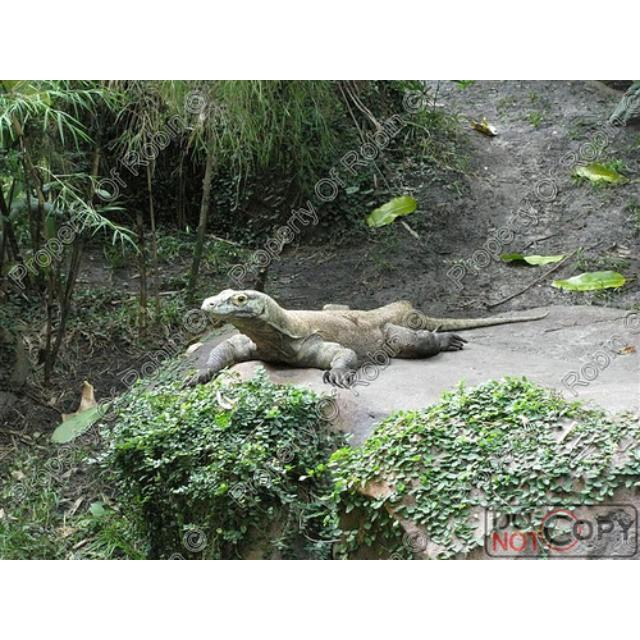KomodoDragon: (177, 286, 548, 389)
